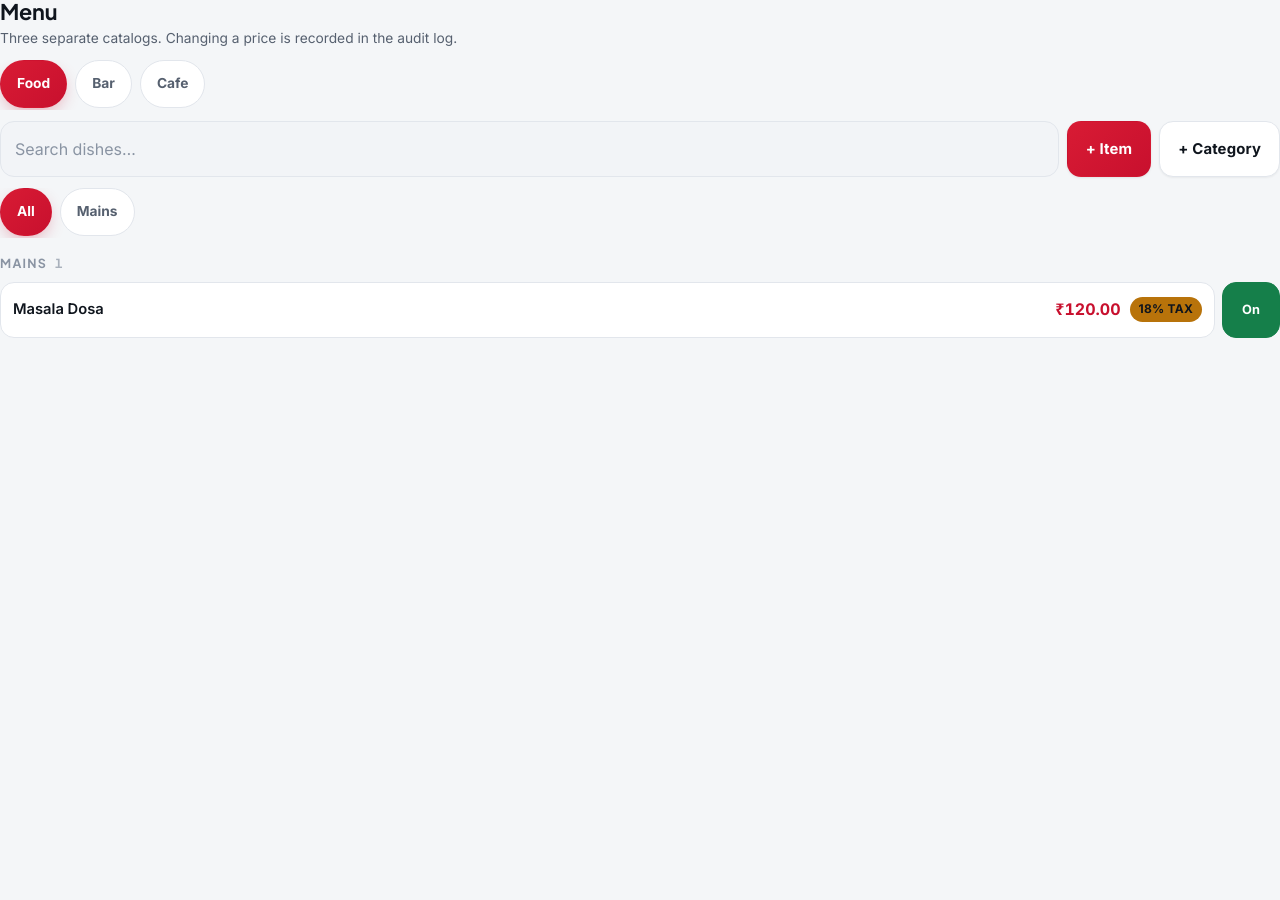
Test case: catalog › the bar catalog asks for tax and bottle size, the food one does not
Click the tab "Bar": {"x": 104, "y": 84} [75,60,132,108]
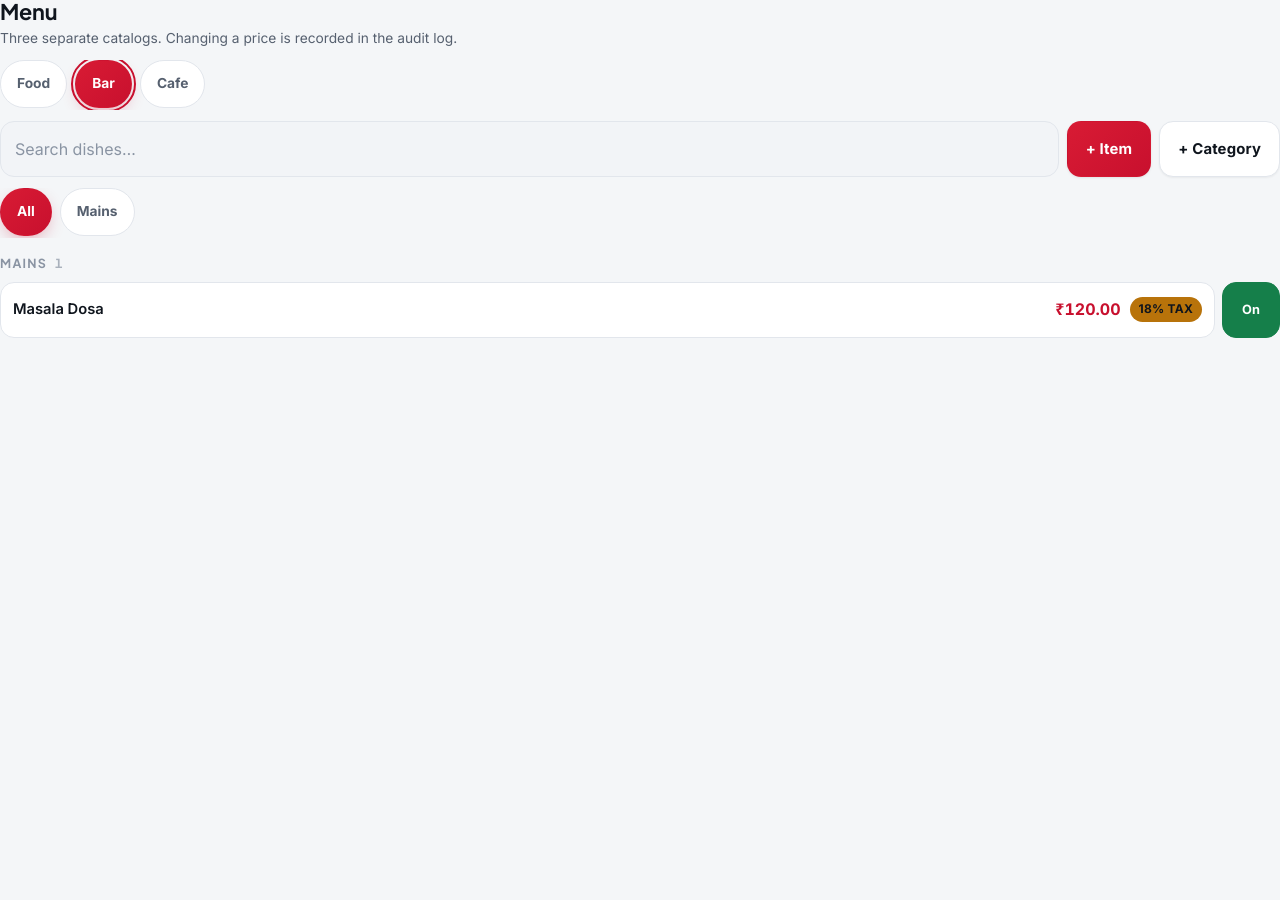
Click the text "Masala Dosa": {"x": 58, "y": 310} [13,298,104,321]
(page scrolled)
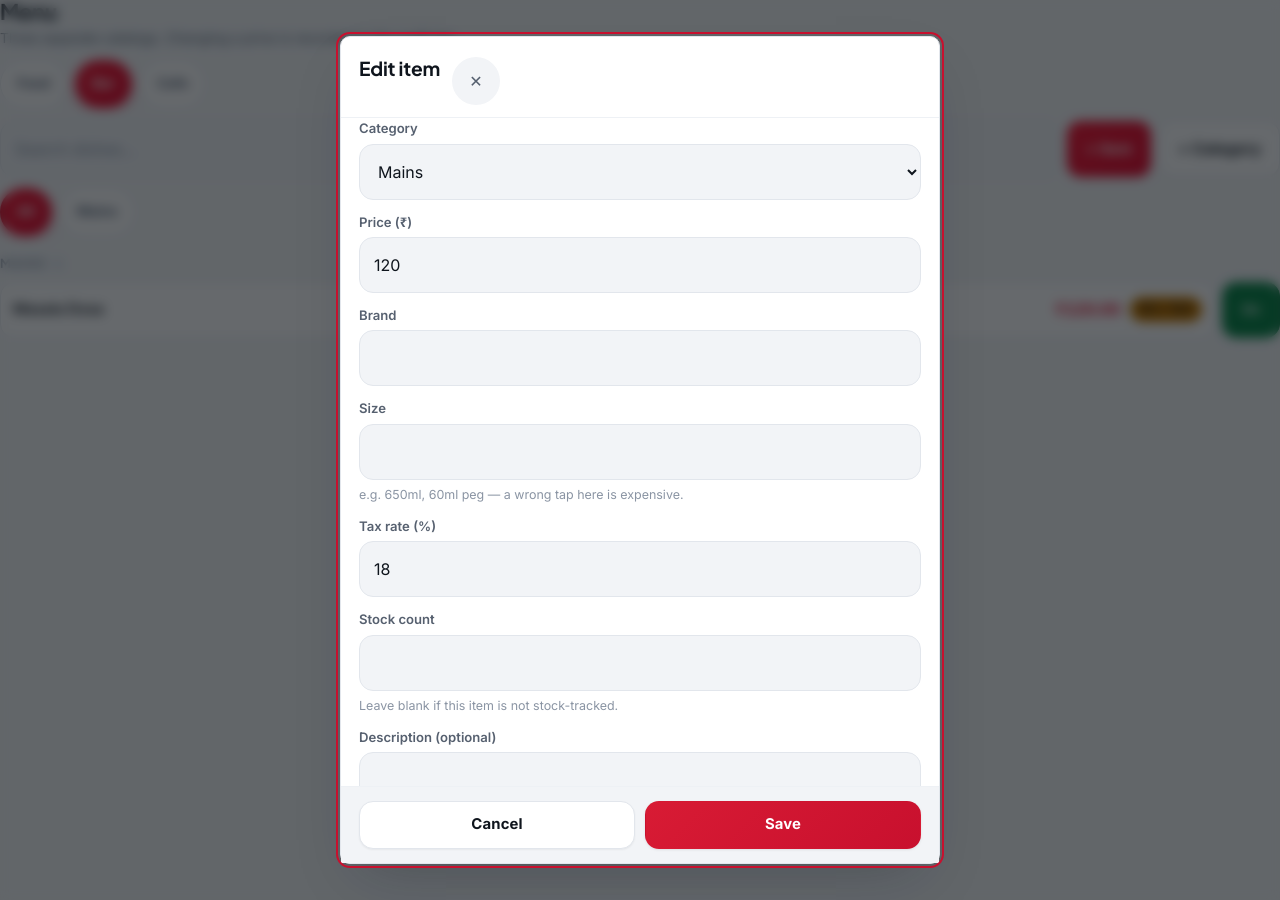
Check: the field labelled "Size e.g. 650ml, 60ml peg — a wrong tap here is expensive." is shown, box [359,424,921,480]
Check: the field labelled "Tax rate (%)" is shown, box [359,541,921,597]
